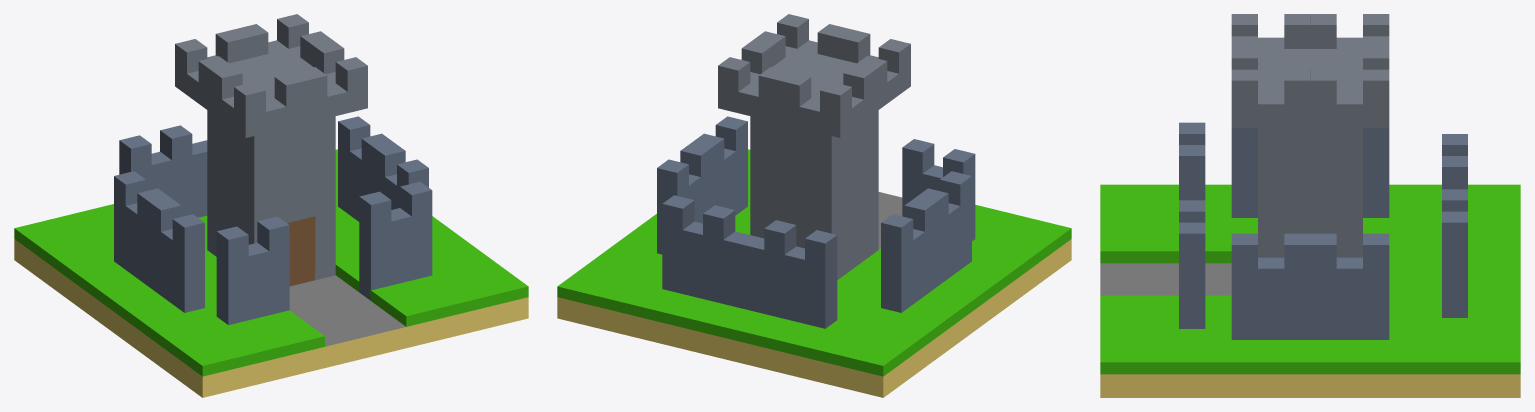
Rendered from burg.gltf.
3 renders of one model, left to right at view 1: azimuth 30°, elevation 25°; view 2: azimuth 150°, elevation 25°; view 3: azimuth 270°, elevation 25°, orthographic. The views are drawn at different scales.
Parts seen in each view (by area): view 1: cube (×51); view 2: cube (×51); view 3: cube (×46).
Part boxes in pixels (<box>): cube (×51): <box>14,14,528,397</box>; cube (×51): <box>557,14,1071,397</box>; cube (×46): <box>1100,14,1520,397</box>.
Size of the model in its own units: 1 by 0.6875 by 1.
57 materials, 57 textured.
